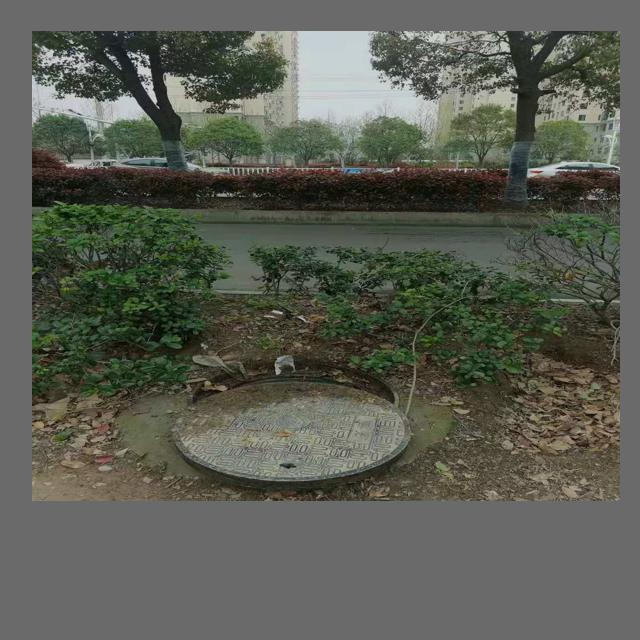uncovered: (169, 361, 415, 485)
